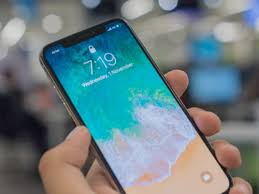iphone: (38, 15, 231, 194)
iphone10: (38, 15, 231, 194)
